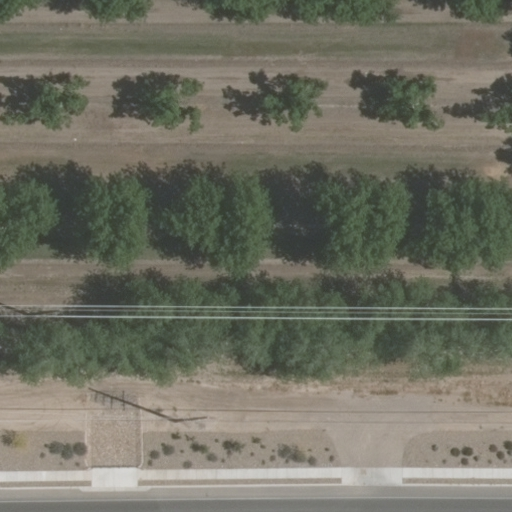DT: (13, 297, 66, 328), (161, 404, 212, 430)
